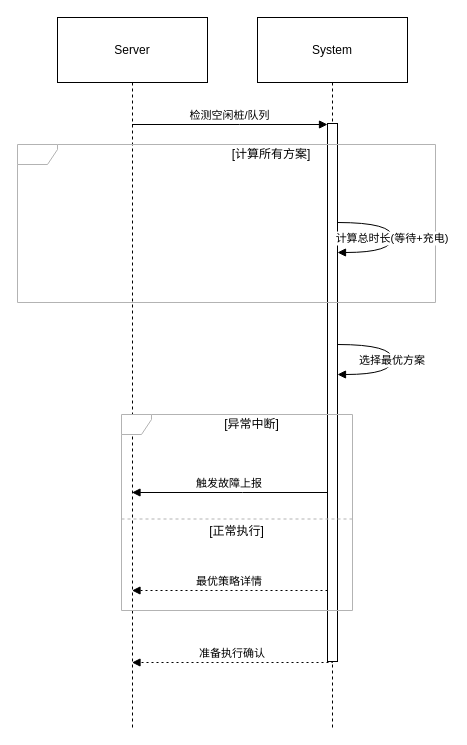
Image size: 467x745. Some labels were removed from this diagram. Here are the shapes that lost their labels. From the top down, the box of each, then its label:
(16, 144, 436, 302): loop
(120, 414, 352, 610): alt
